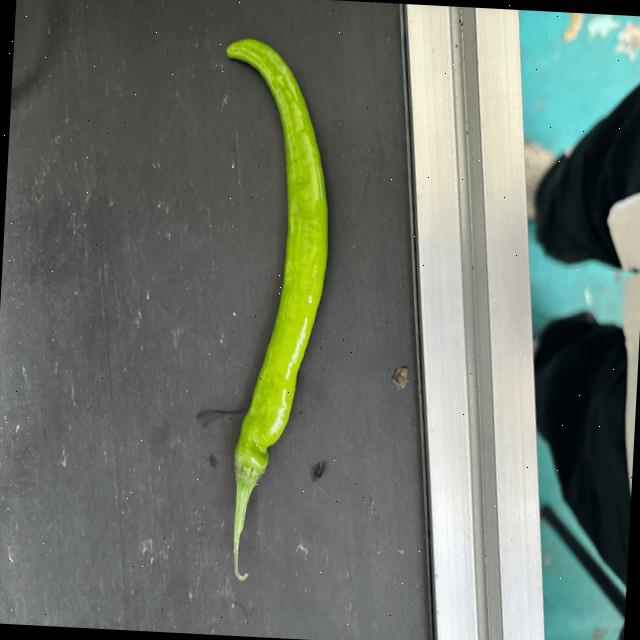chili: (224, 37, 331, 486)
